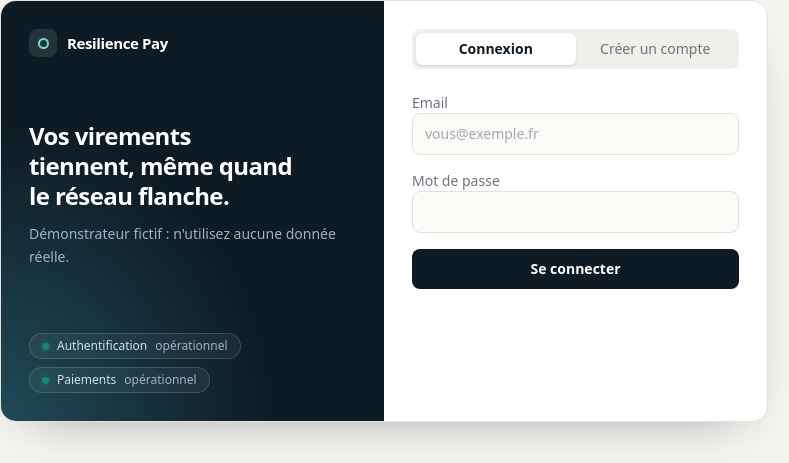
AuthScreen : connexion › exige email et mot de passe avant tout appel
Click the button "Se connecter": (576, 269) [412,249,739,289]
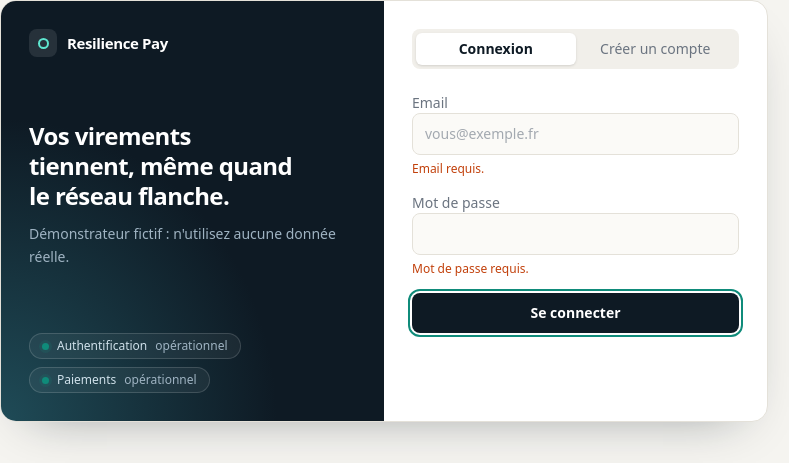
Result: the text "Email requis." is shown at [412,160,484,177]
Result: the text "Mot de passe requis." is shown at [412,260,529,277]
In the field labelled "Email Email requis.": (576, 134) [412,113,739,155], type "a"
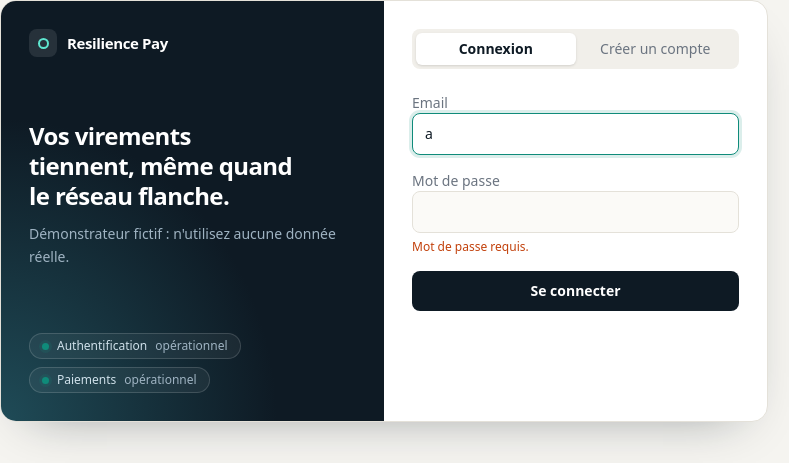
Result: the text "Mot de passe requis." is shown at [412,238,529,255]
Result: the text "Email requis." is gone
